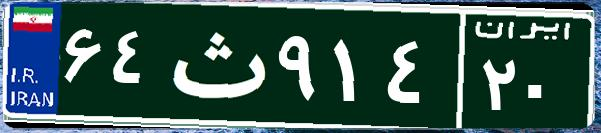0: (525, 38, 570, 115)
1: (330, 28, 385, 110)
2: (475, 38, 525, 113)
4: (385, 28, 445, 110), (110, 28, 158, 105)
6: (57, 26, 110, 107)
9: (273, 28, 330, 110)
ث: (158, 15, 273, 115)
